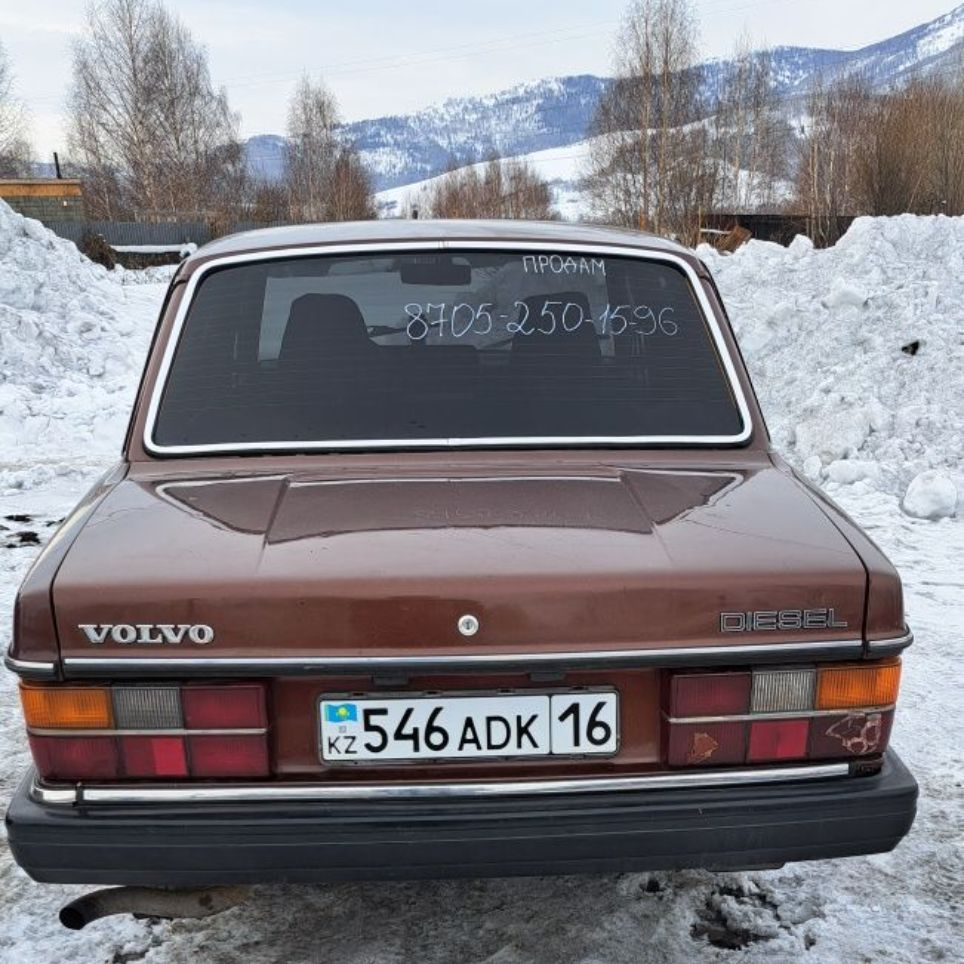license plate: (319, 697, 620, 756)
truck: (41, 228, 905, 889)
